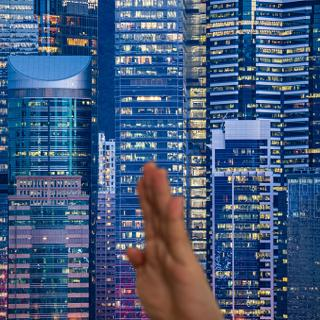RIGHT: (115, 160, 228, 320)
